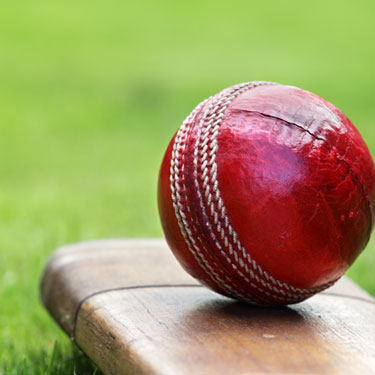red ball: (156, 80, 375, 308)
